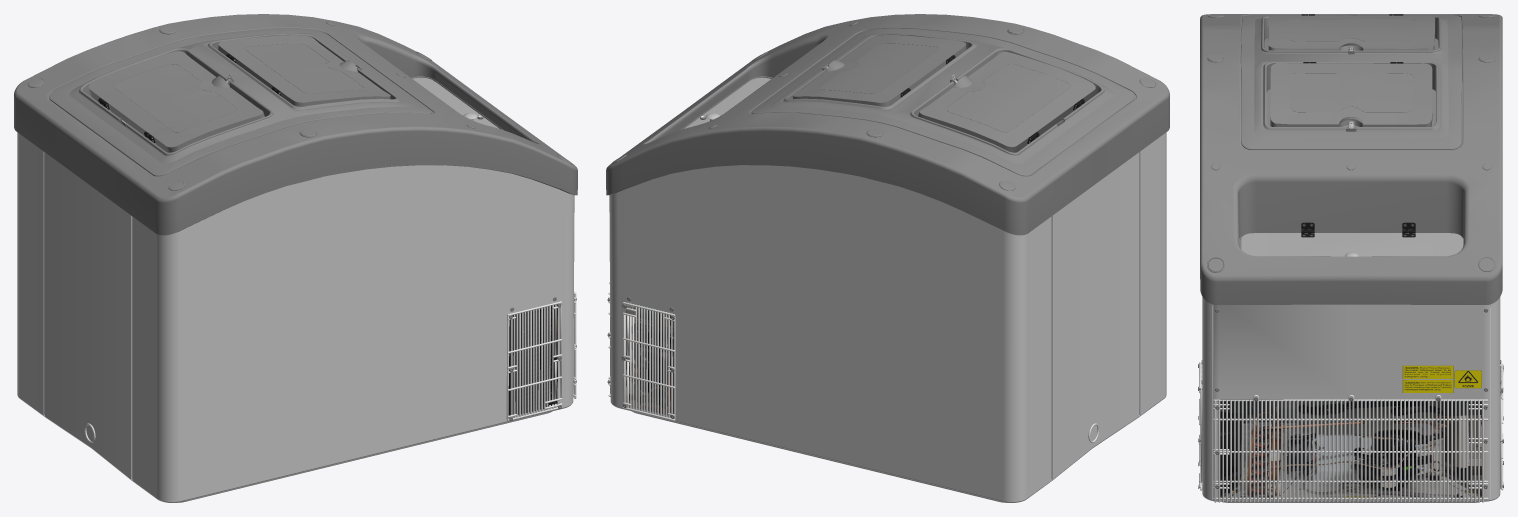
Rendered from deep-freezer-205L.glb.
3 views of the same model, side by side, from view 1: azimuth 30°, elevation 25°; view 2: azimuth 150°, elevation 25°; view 3: azimuth 270°, elevation 25° (orthographic). The views are drawn at different scales.
Visible parts, largest first — view 1: LOWER BODY.004, LOWER_BODY.001, Sphere.006, VENT MMACHINES, Cylinder.001; view 2: LOWER BODY.004, LOWER_BODY.001, Sphere.006, VENT MMACHINES, Cylinder.001; view 3: LOWER_BODY.001, LOWER BODY.004, Sphere.006, VENT MMACHINES, Cylinder.001, OUTER LABELS, Frearson Flat Head.001.
Boxes of the visible parts, bbox=[...] form: LOWER BODY.004: bbox=[17, 120, 574, 502]; LOWER_BODY.001: bbox=[14, 14, 577, 235]; Sphere.006: bbox=[84, 291, 576, 442]; VENT MMACHINES: bbox=[508, 305, 557, 415]; Cylinder.001: bbox=[412, 77, 500, 128]; LOWER BODY.004: bbox=[609, 120, 1166, 502]; LOWER_BODY.001: bbox=[606, 14, 1169, 235]; Sphere.006: bbox=[608, 292, 1099, 442]; VENT MMACHINES: bbox=[626, 304, 673, 416]; Cylinder.001: bbox=[683, 77, 770, 128]; LOWER_BODY.001: bbox=[1200, 14, 1502, 304]; LOWER BODY.004: bbox=[1202, 297, 1500, 502]; Sphere.006: bbox=[1199, 362, 1503, 502]; VENT MMACHINES: bbox=[1219, 399, 1481, 497]; Cylinder.001: bbox=[1240, 233, 1463, 256]; OUTER LABELS: bbox=[1402, 365, 1481, 392]; Frearson Flat Head.001: bbox=[1301, 14, 1415, 237].
Size of the model in its own units: 0.9656 by 0.7646 by 0.6307.
23 materials, 9 textured.
